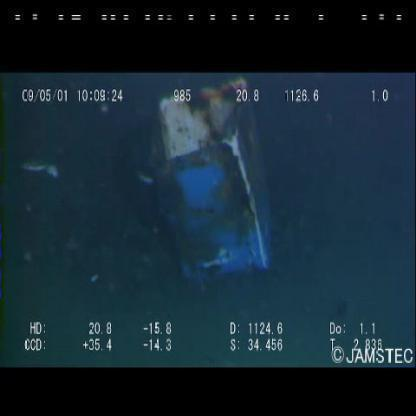Rác: (148, 79, 274, 287)
